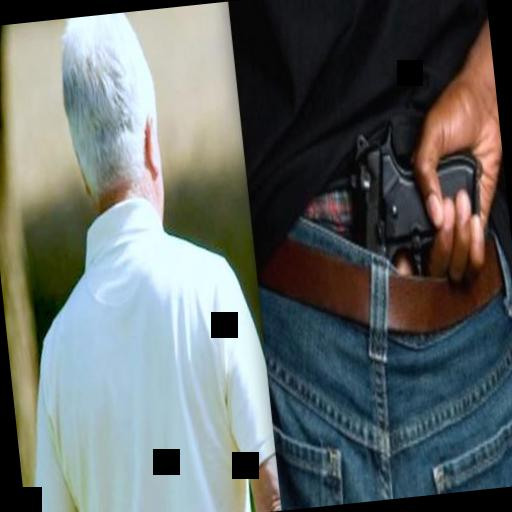Handgun: (346, 90, 496, 308)
